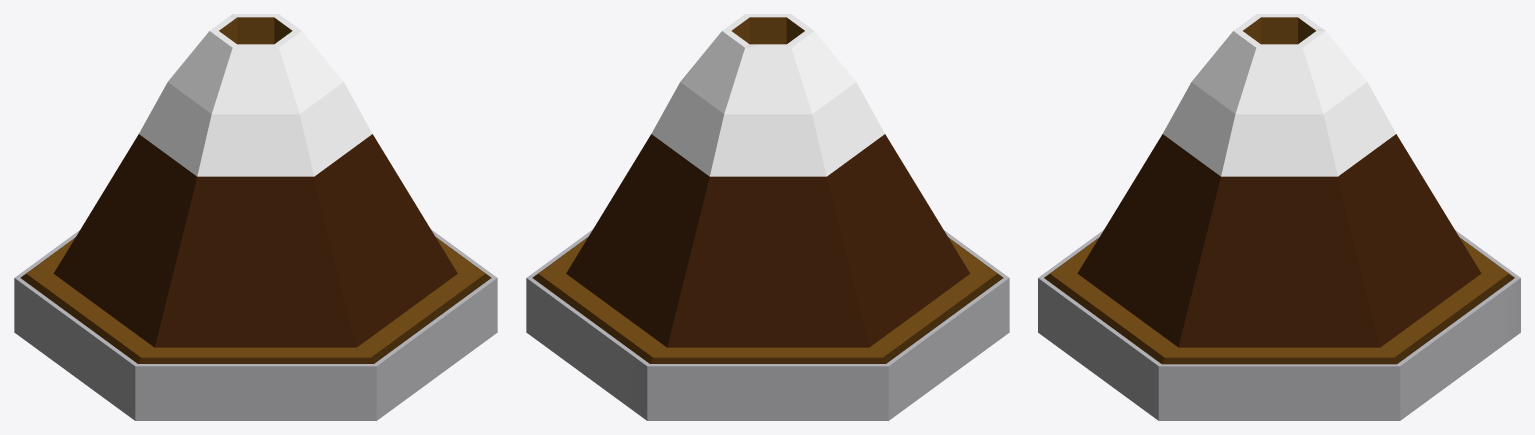
File: Provinces_Cotopaxi.fbx
The picture shows the model from 3 angles, left to right: view 1: azimuth 30°, elevation 25°; view 2: azimuth 150°, elevation 25°; view 3: azimuth 270°, elevation 25°; orthographic projection.
Visible parts, largest first — view 1: 4.Provinces_Cotopaxi; view 2: 4.Provinces_Cotopaxi; view 3: 4.Provinces_Cotopaxi.
Part boxes in pixels (left/top/right/bottom): 4.Provinces_Cotopaxi: left=14, top=14, right=497, bottom=420; 4.Provinces_Cotopaxi: left=526, top=14, right=1009, bottom=420; 4.Provinces_Cotopaxi: left=1038, top=14, right=1520, bottom=420.
Bounding box in the file's own units: 173 × 138 × 200.
